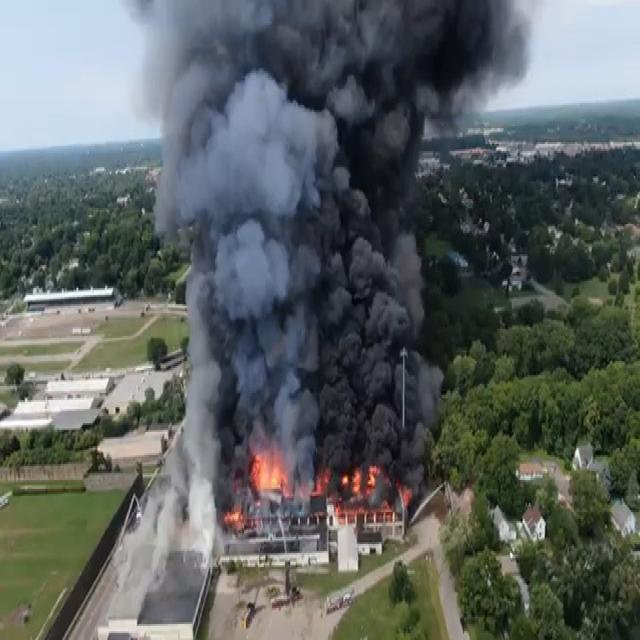Smoke: (189, 78, 312, 459), (326, 91, 427, 465), (274, 0, 485, 88), (343, 227, 393, 400), (216, 218, 290, 326), (152, 486, 184, 582), (285, 377, 318, 463), (194, 479, 223, 570), (125, 511, 150, 594)
